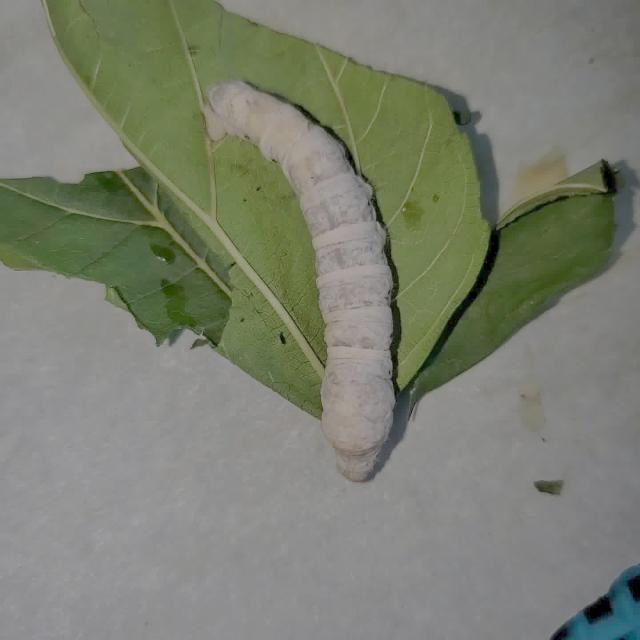Grasserie: (184, 58, 431, 510)
